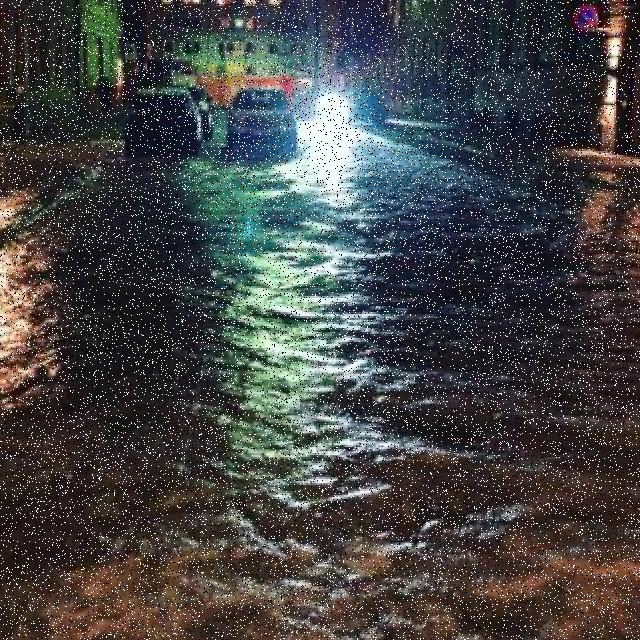ice-road: (0, 123, 640, 640)
